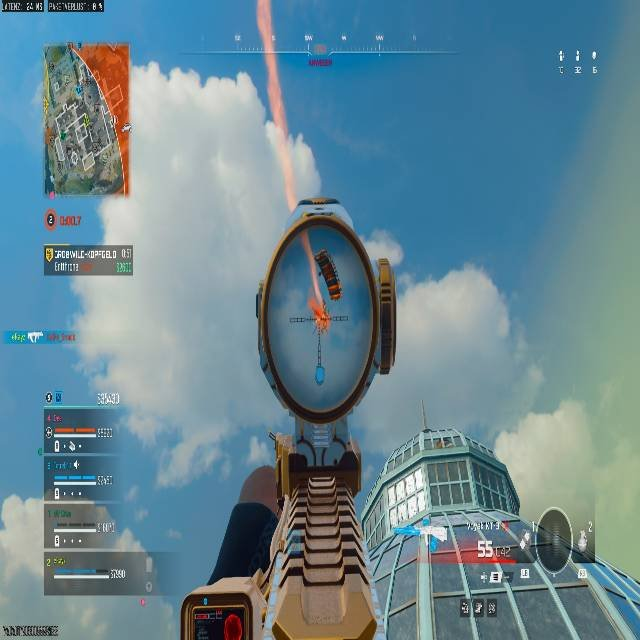head: (255, 195, 400, 421)
